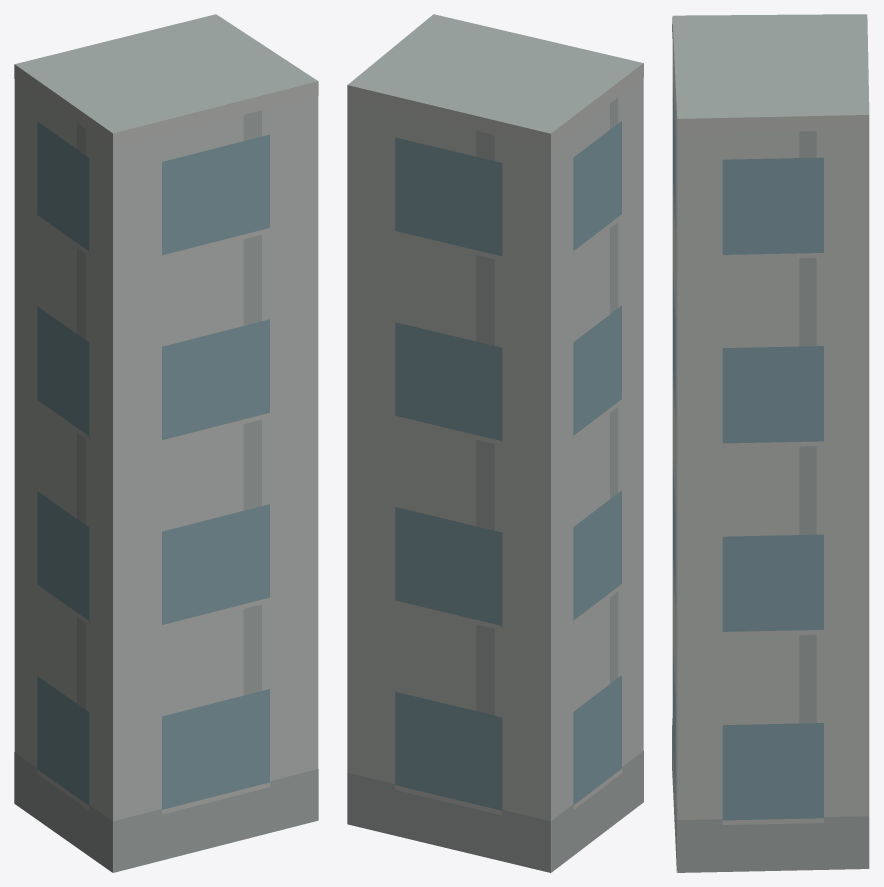
The model's file is survey-upis-32623363.glb.
3 renders of one model, left to right at view 1: azimuth 30°, elevation 25°; view 2: azimuth 150°, elevation 25°; view 3: azimuth 270°, elevation 25°, orthographic. The views are drawn at different scales.
Parts seen in each view (by area): view 1: survey-upis-32623363.tmp; view 2: survey-upis-32623363.tmp; view 3: survey-upis-32623363.tmp.
Boxes of the visible parts, left/top/right/bottom form: survey-upis-32623363.tmp: left=14, top=14, right=318, bottom=872; survey-upis-32623363.tmp: left=347, top=14, right=643, bottom=872; survey-upis-32623363.tmp: left=672, top=14, right=869, bottom=872.
Bounding box in the file's own units: 3.65 × 12.2 × 2.9.
